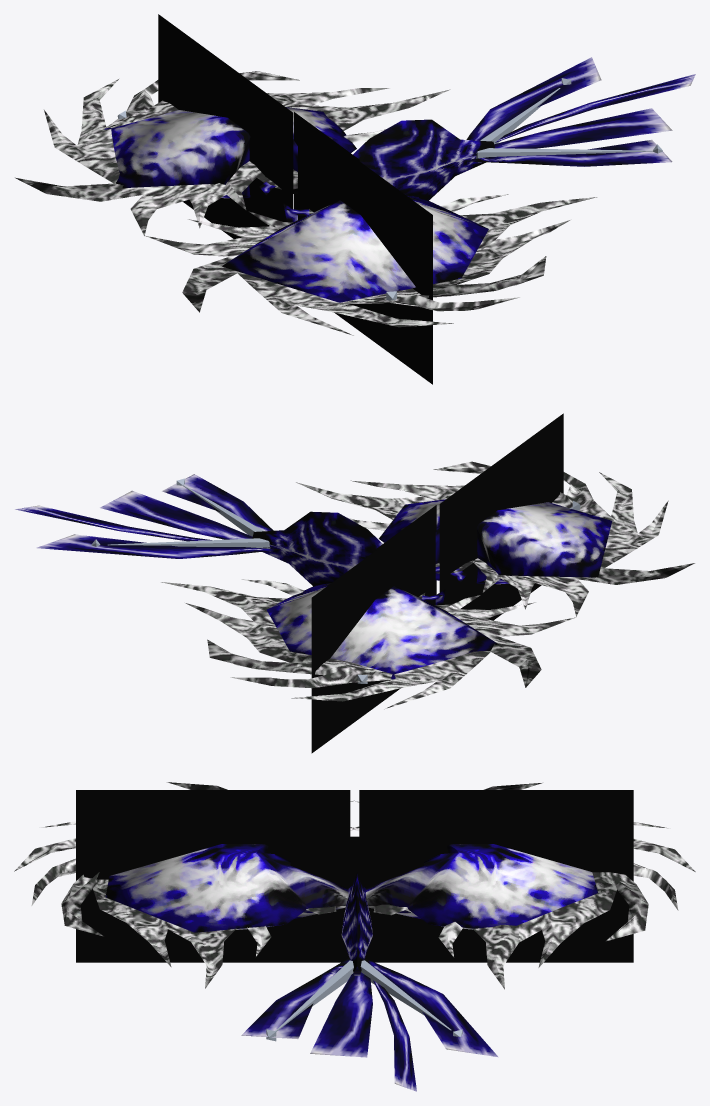
Rendered from bst24a.obj.
3 renders of one model, top to bottom at view 1: azimuth 30°, elevation 25°; view 2: azimuth 150°, elevation 25°; view 3: azimuth 270°, elevation 25°, orthographic. The views are drawn at different scales.
Parts seen in each view (by area): view 1: LINE040, RECTANGLE040, RECTANGLE020.002, BONE020, BONE040; view 2: LINE040, RECTANGLE020.002, RECTANGLE040, BONE040, BONE020; view 3: LINE040, RECTANGLE040, RECTANGLE020.002, RECTANGLE030, BONE040, BONE020.
Boxes of the visible parts, x1,y1,x2,y2 form: LINE040: (15, 57, 695, 335); RECTANGLE040: (298, 116, 432, 384); RECTANGLE020.002: (158, 14, 293, 238); BONE020: (476, 148, 651, 162); BONE040: (480, 88, 560, 144); LINE040: (15, 461, 694, 709); RECTANGLE020.002: (311, 507, 435, 753); RECTANGLE040: (439, 413, 563, 620); BONE040: (108, 538, 270, 548); BONE020: (183, 485, 264, 536); LINE040: (14, 782, 695, 1091); RECTANGLE040: (76, 790, 350, 962); RECTANGLE020.002: (359, 790, 633, 962); RECTANGLE030: (290, 836, 423, 948); BONE040: (360, 960, 451, 1030); BONE020: (275, 960, 353, 1031).
Bounding box in the file's own units: 657 × 172 × 617.
Materials: 15 (3 with a texture image).
